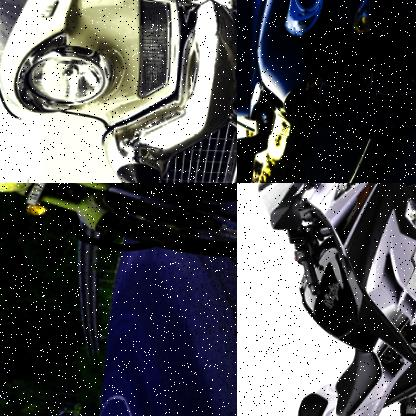bike: (247, 183, 416, 416), (0, 183, 237, 255)
car: (237, 0, 416, 183)
